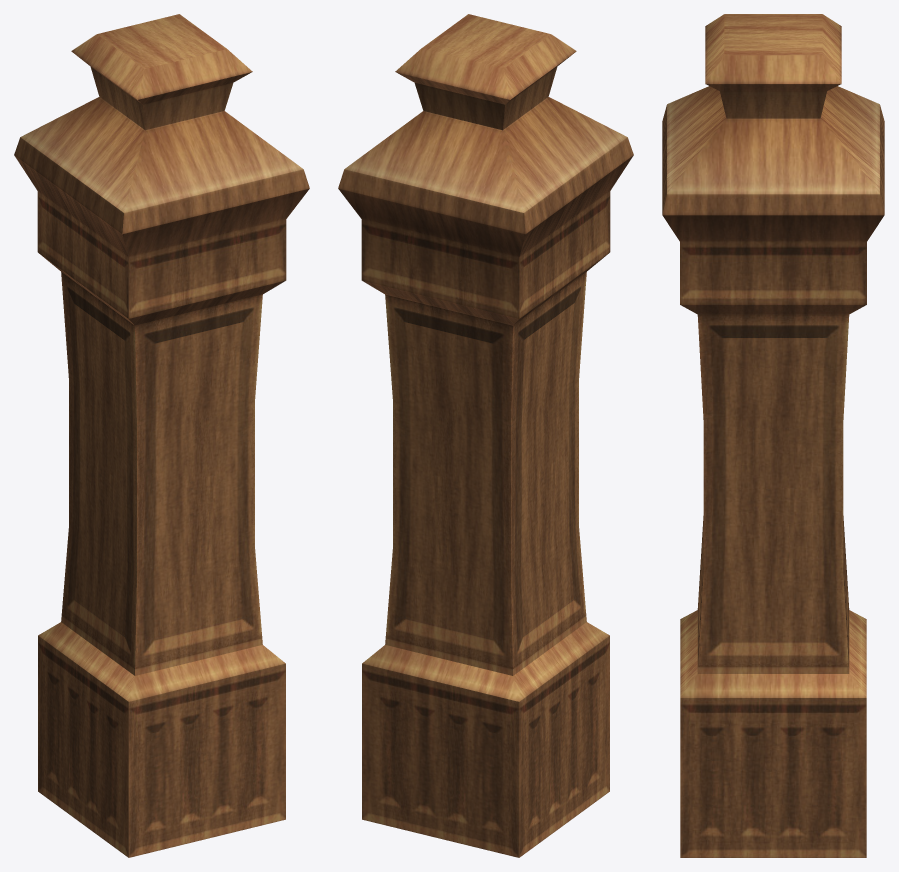
The model's file is stairs_pillar1.fbx.
The picture shows the model from 3 angles, left to right: view 1: azimuth 30°, elevation 25°; view 2: azimuth 150°, elevation 25°; view 3: azimuth 270°, elevation 25°; orthographic projection. The views are drawn at different scales.
Parts seen in each view (by area): view 1: stairs_pillar1; view 2: stairs_pillar1; view 3: stairs_pillar1.
Boxes of the visible parts, left/top/right/bottom form: stairs_pillar1: left=14, top=14, right=309, bottom=857; stairs_pillar1: left=338, top=14, right=633, bottom=857; stairs_pillar1: left=662, top=14, right=884, bottom=857.
Bounding box in the file's own units: 65.63 × 255 × 65.63.
Materials: 1 (1 with a texture image).
